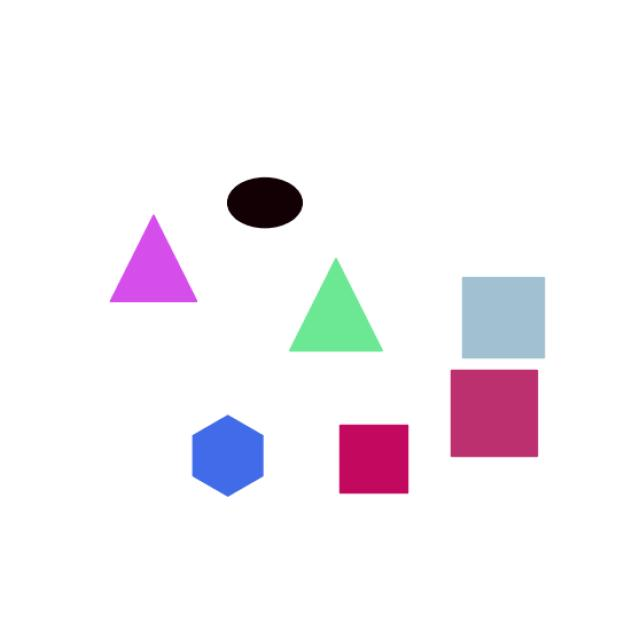Hexagon: (171, 414, 304, 506)
Oval: (215, 169, 308, 230)
Triangle: (264, 250, 417, 370), (95, 204, 215, 320)
square: (437, 359, 548, 467), (452, 266, 559, 375), (329, 408, 428, 508)
